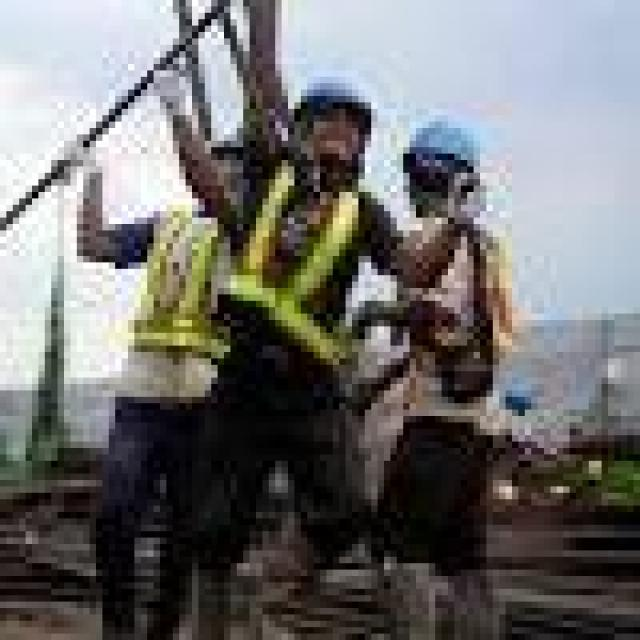Reflective-Jacket: (205, 166, 390, 397)
Safety-Helmet: (390, 96, 500, 192), (276, 58, 390, 134)
